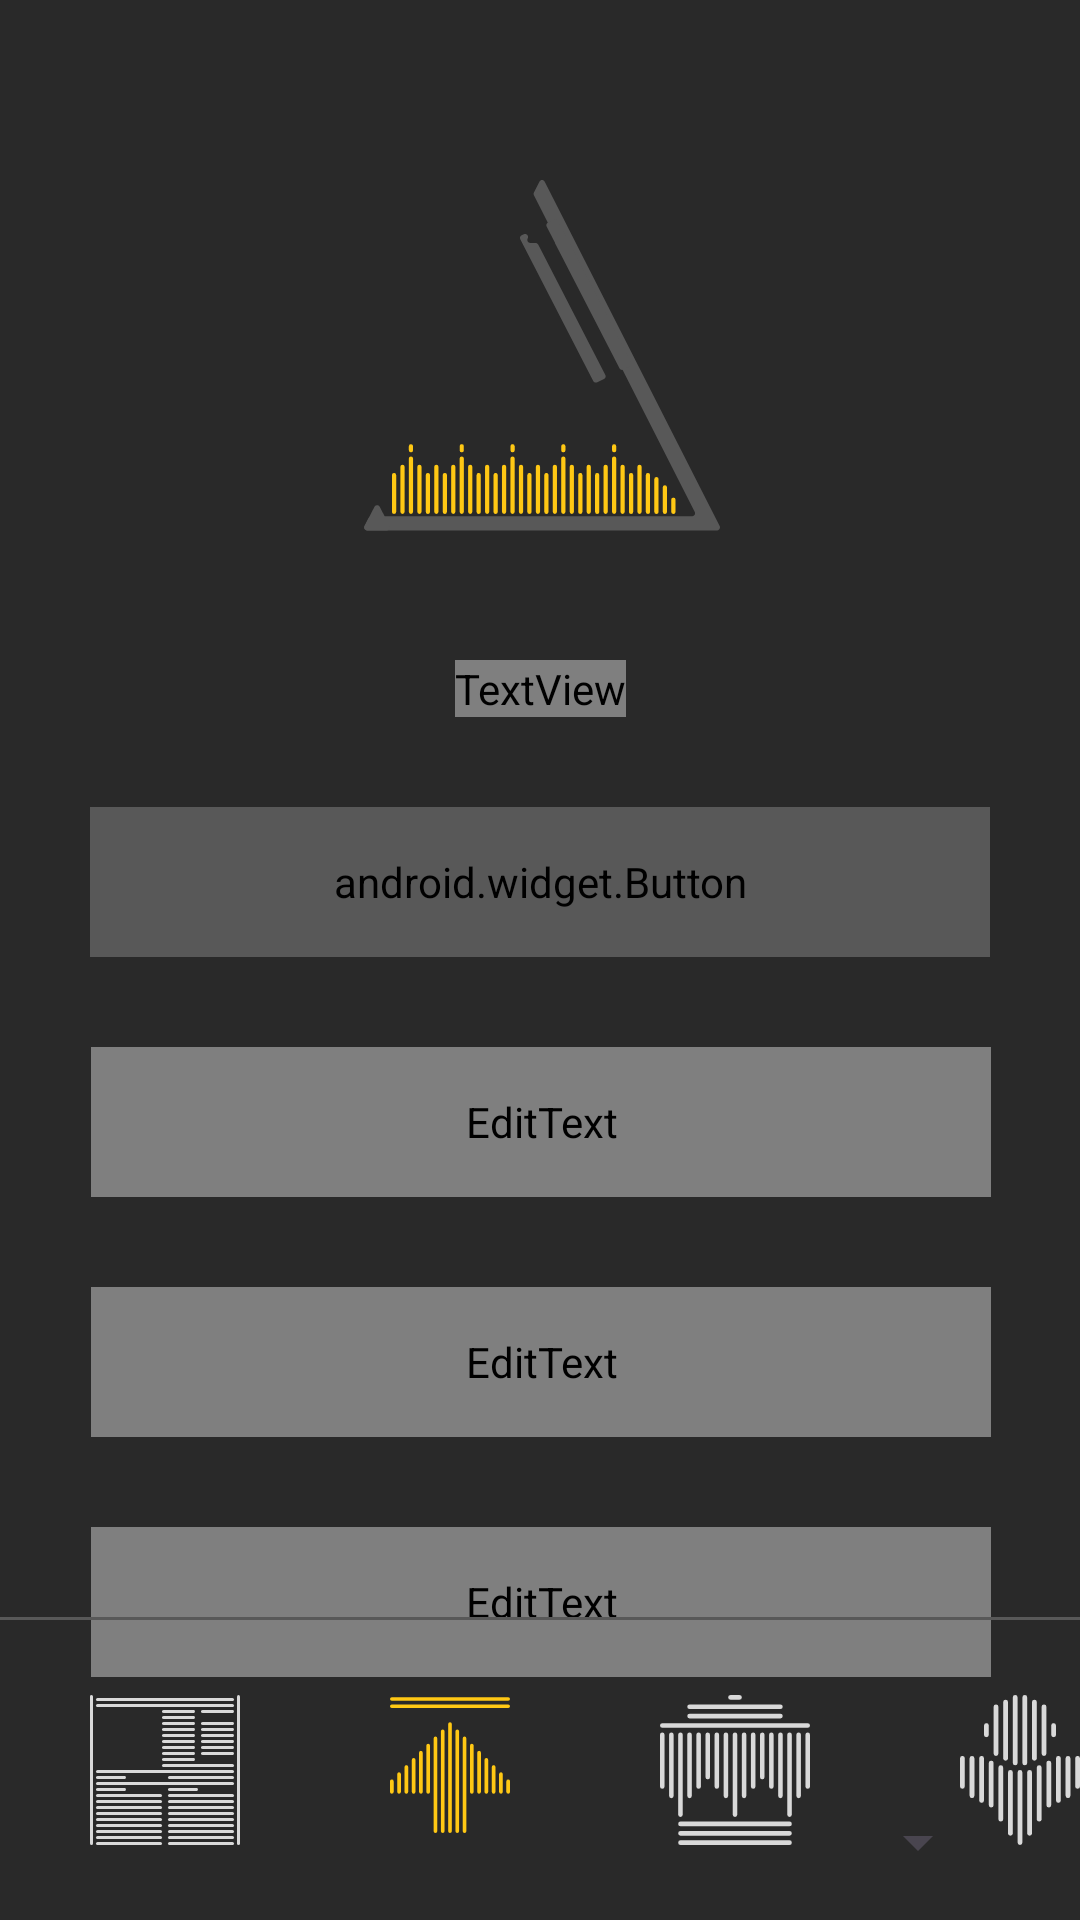

Icons on this 1080 x 1920 Android screen, each with the point to tap as [x,y]:
news: [165,1770]
upload onclk: [450,1765]
